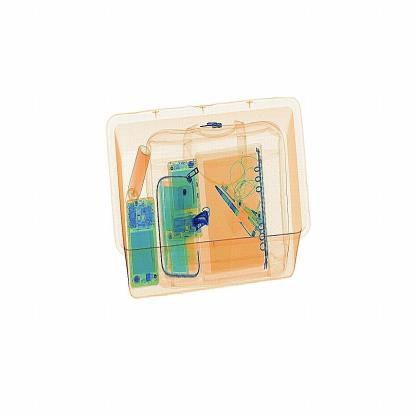knife: (188, 212, 210, 234)
